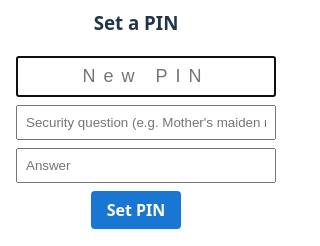
Scenario: PinGate › sets a new PIN and security question
Type "1234" into the password field with placeholder "New PIN".
click(146, 77); type("1234")  # box x1=16 y1=56 x2=276 y2=97
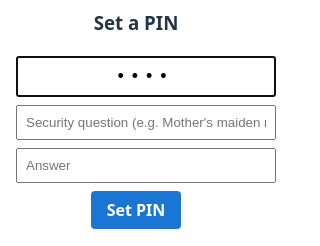
Type "Pet?" into the field with placeholder "Security question (e.g. Mother's maiden name)".
click(146, 123); type("Pet?")  # box x1=16 y1=105 x2=276 y2=140
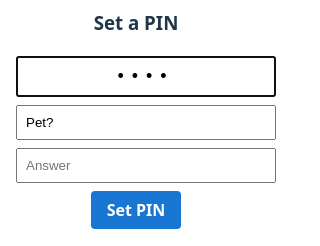
Type "dog" into the field with placeholder "Answer".
click(146, 166); type("dog")  # box x1=16 y1=148 x2=276 y2=183
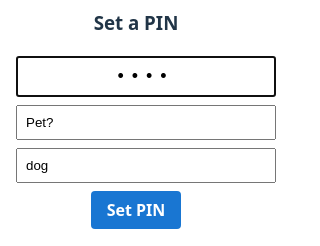
Click the button "Set PIN".
click(136, 210)  # box x1=91 y1=191 x2=181 y2=229
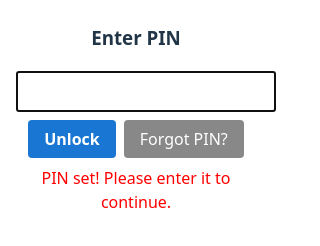
Check: the text "PIN set! Please enter it to continue." is shown, box x1=42 y1=167 x2=230 y2=213
Check: the heading "Enter PIN" is shown, box x1=91 y1=26 x2=181 y2=50
